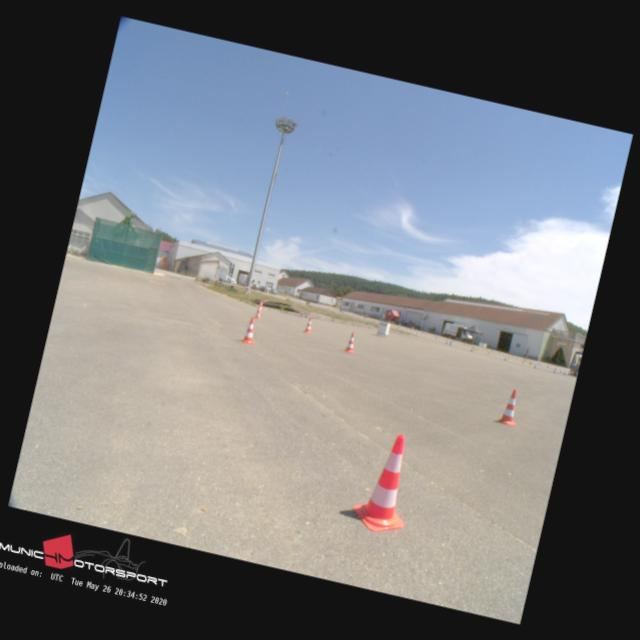large_orange_cone: (343, 331, 358, 352), (302, 315, 314, 333), (252, 304, 264, 320), (258, 300, 264, 312)
orange_cone: (348, 428, 422, 536), (497, 386, 523, 426), (240, 315, 260, 344)
